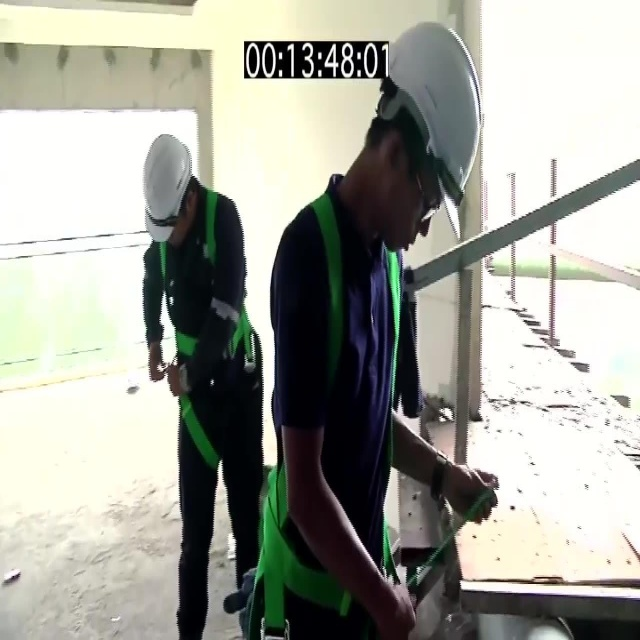Arnes_seguridad: (262, 189, 403, 624), (159, 188, 254, 471)
